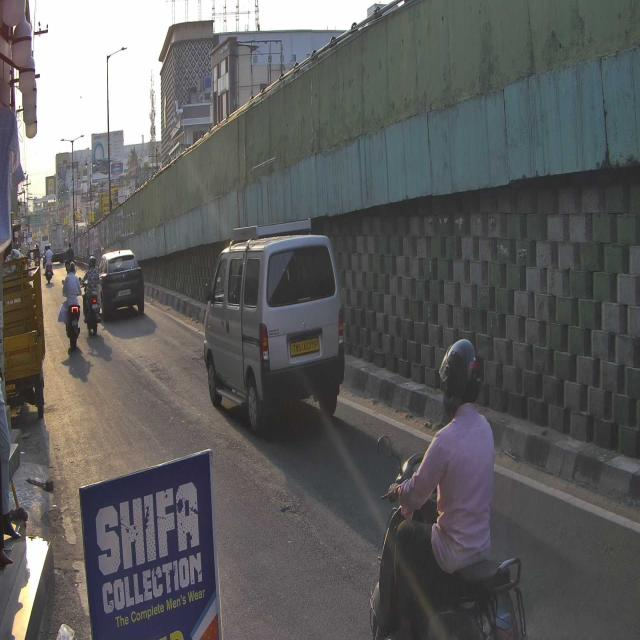single_rider: (369, 336, 522, 640)
